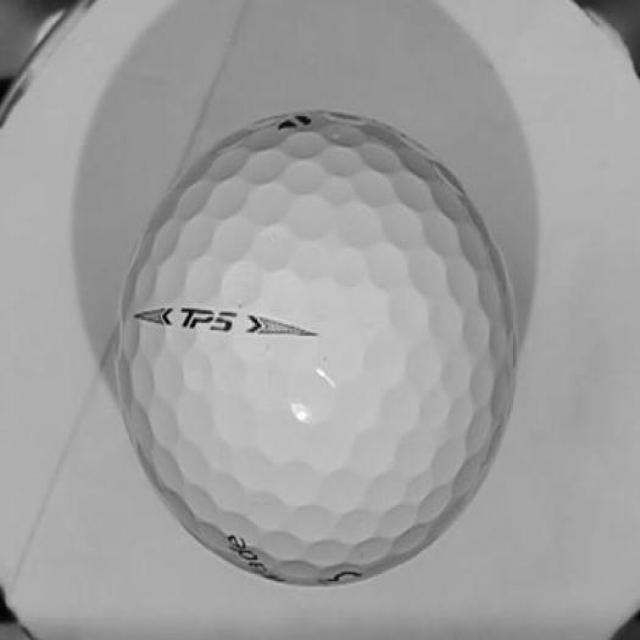golfball: (119, 109, 506, 583), (217, 307, 288, 340)
